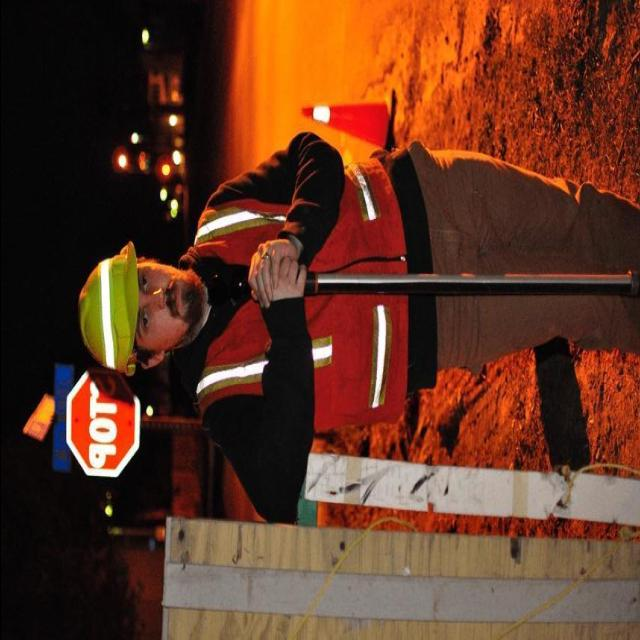helmet: (72, 241, 148, 379)
jacket: (190, 146, 428, 449)
